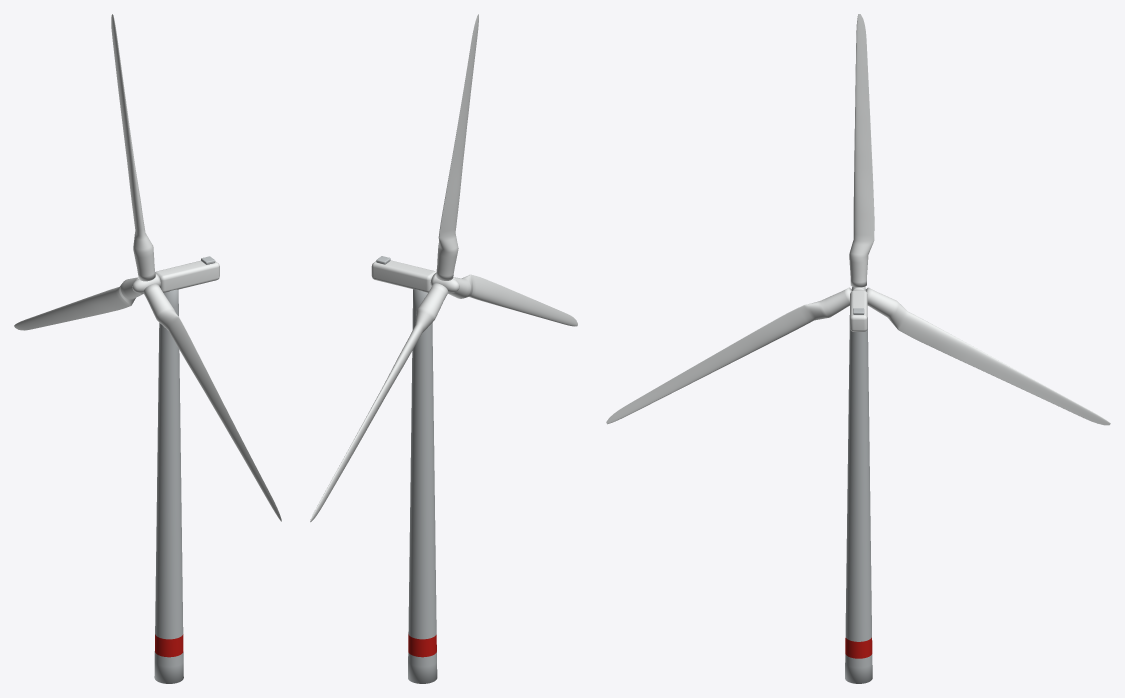
The model's file is wind_turbine_nrel5mw.light.glb.
3 views of the same model, side by side, from view 1: azimuth 30°, elevation 25°; view 2: azimuth 150°, elevation 25°; view 3: azimuth 270°, elevation 25° (orthographic). The views are drawn at different scales.
Parts seen in each view (by area): view 1: tower__turbine_grey, blade_2, blade_1, blade_3, nacelle, tower__tower_band; view 2: tower__turbine_grey, blade_1, blade_3, blade_2, nacelle, tower__tower_band; view 3: tower__turbine_grey, blade_1, blade_3, blade_2.
Part boxes in pixels (<box>): tower__turbine_grey: <box>154,289,183,683</box>; blade_2: <box>143,283,281,521</box>; blade_1: <box>111,14,155,281</box>; blade_3: <box>14,277,143,330</box>; nacelle: <box>155,260,219,292</box>; tower__tower_band: <box>155,634,183,657</box>; tower__turbine_grey: <box>408,289,437,683</box>; blade_1: <box>436,14,478,280</box>; blade_3: <box>310,283,448,522</box>; blade_2: <box>448,274,577,326</box>; nacelle: <box>371,260,436,292</box>; tower__tower_band: <box>408,634,436,657</box>; tower__turbine_grey: <box>845,315,872,683</box>; blade_1: <box>849,14,874,287</box>; blade_3: <box>866,287,1110,425</box>; blade_2: <box>606,287,851,424</box>.
Size of the model in its own units: 24.49 by 152 by 109.
